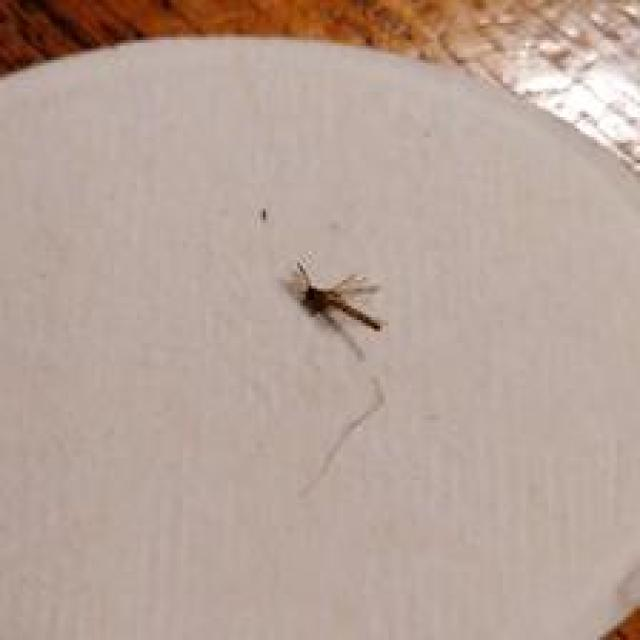Culex: (288, 260, 386, 360)
